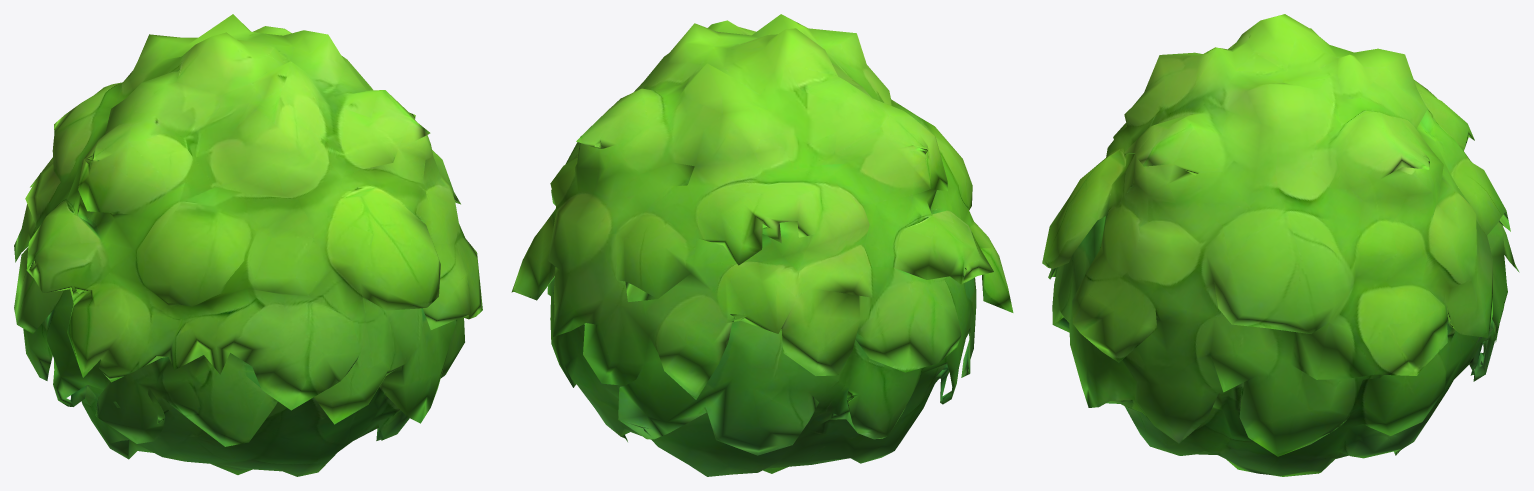
Rendered from env_bush.glb.
3 renders of one model, left to right at view 1: azimuth 30°, elevation 25°; view 2: azimuth 150°, elevation 25°; view 3: azimuth 270°, elevation 25°, orthographic.
Bounding box in the file's own units: 1.94 × 2.01 × 1.96.
1 material, 1 textured.
